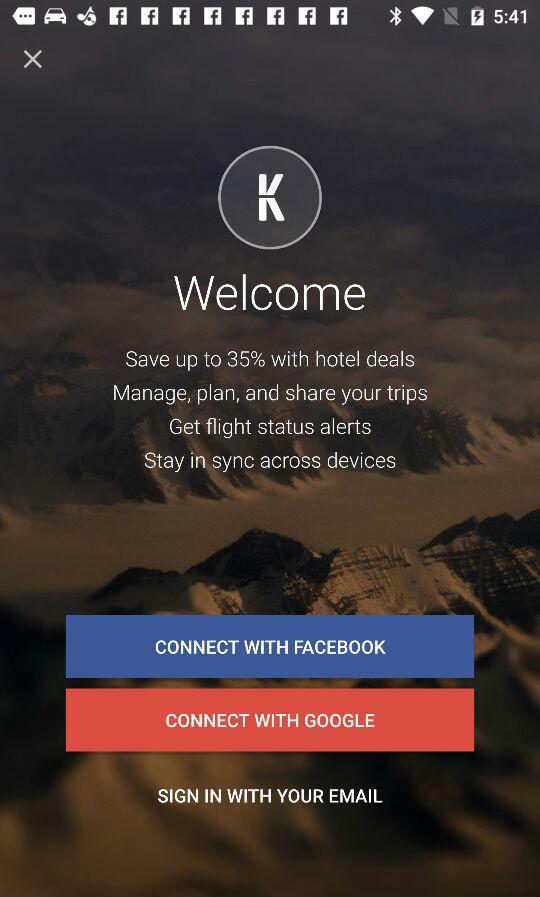BackgroundImage: (1, 29, 540, 897)
Icon: (24, 50, 44, 70)
Image: (218, 146, 323, 251)
Text: (114, 350, 428, 474), (174, 273, 367, 313), (157, 788, 384, 805)
TextButton: (66, 688, 474, 752), (67, 615, 474, 678)
UpperTaskBar: (1, 1, 540, 29)
